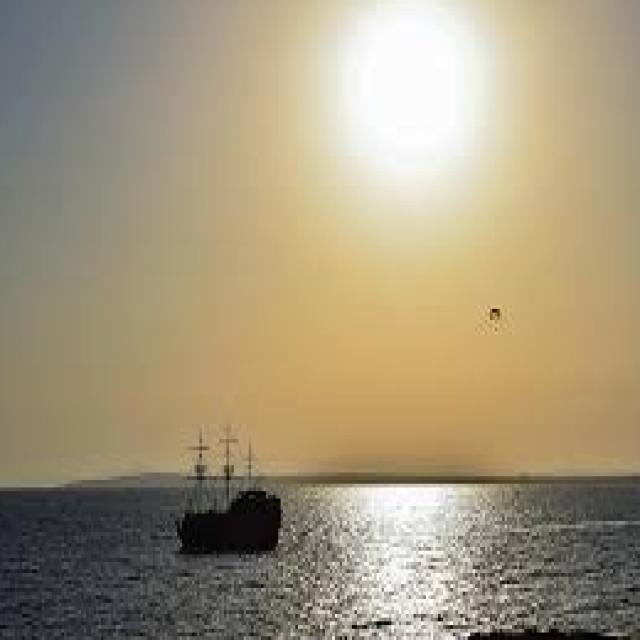fishing boat: (177, 423, 287, 556)
